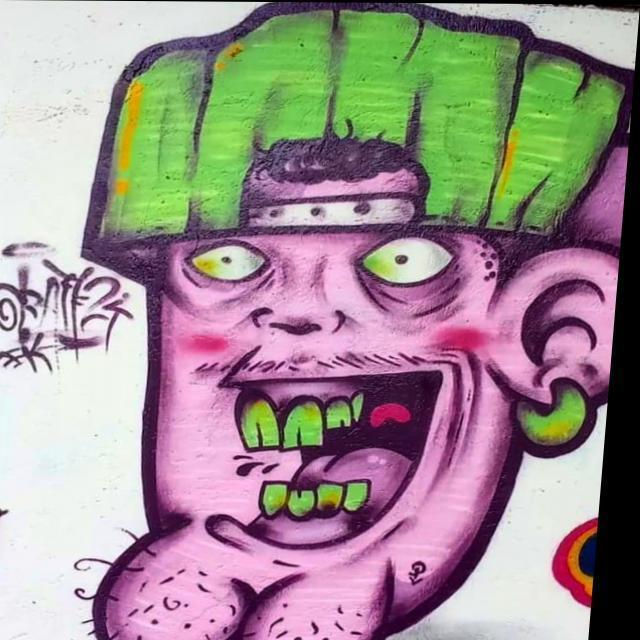nonspitting: (0, 236, 134, 370)
spitting: (81, 0, 628, 640)
